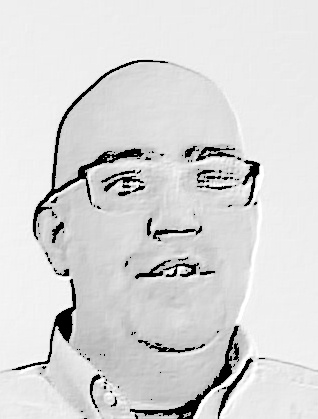nose_M_C: (146, 181, 205, 254)
